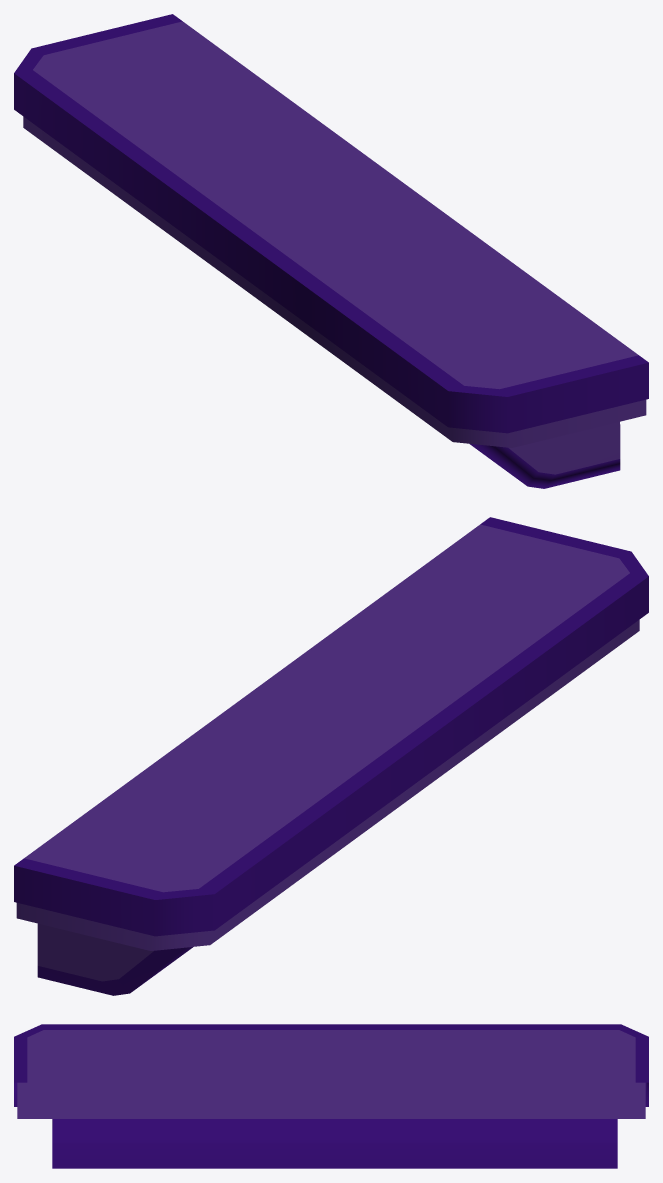
The model's file is SM_platform_1.fbx.
3 views of the same model, one above another, from view 1: azimuth 30°, elevation 25°; view 2: azimuth 150°, elevation 25°; view 3: azimuth 270°, elevation 25° (orthographic). The views are drawn at different scales.
Parts seen in each view (by area): view 1: SM_platform_1; view 2: SM_platform_1; view 3: SM_platform_1.
Boxes of the visible parts, x1,y1,x2,y2 form: SM_platform_1: (14, 14, 648, 488); SM_platform_1: (14, 517, 648, 995); SM_platform_1: (14, 1024, 648, 1168).
Size of the model in its own units: 2.07 by 1.42 by 9.5.
